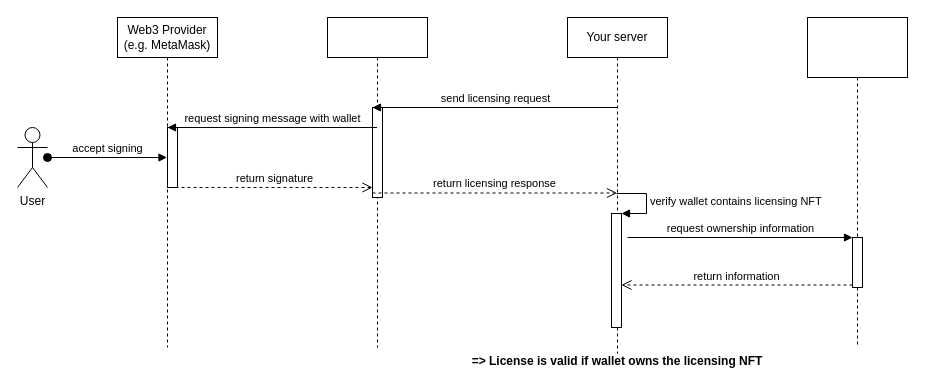
Some shapes in this 925 by 391 pixel diagram are drawn without their labels. The shapes that lost their labels are listed below. From the top down, each one's box as (x1, y1, x2, y2) in pixels, then its label:
(326, 16, 428, 348): User's Browser
(806, 16, 908, 348): NFT API (OpenSea, Moralis etc.)
